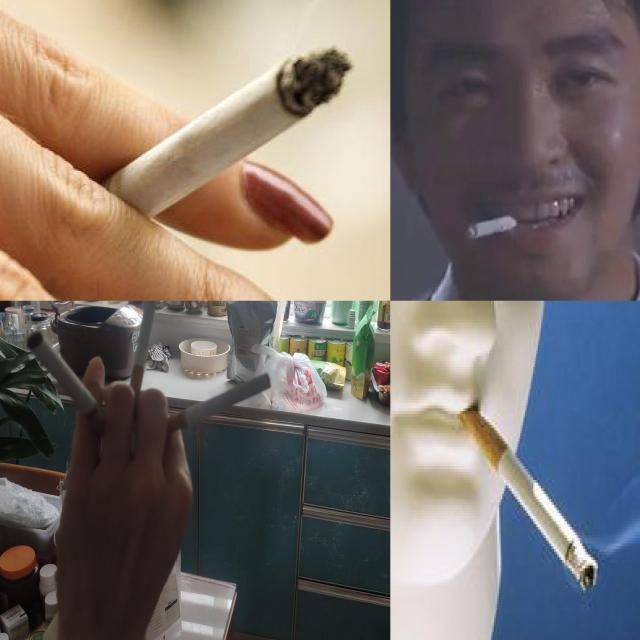smoking: (51, 43, 356, 257), (456, 391, 598, 593), (28, 330, 116, 447), (158, 372, 274, 440), (123, 300, 162, 422), (464, 210, 526, 240)
